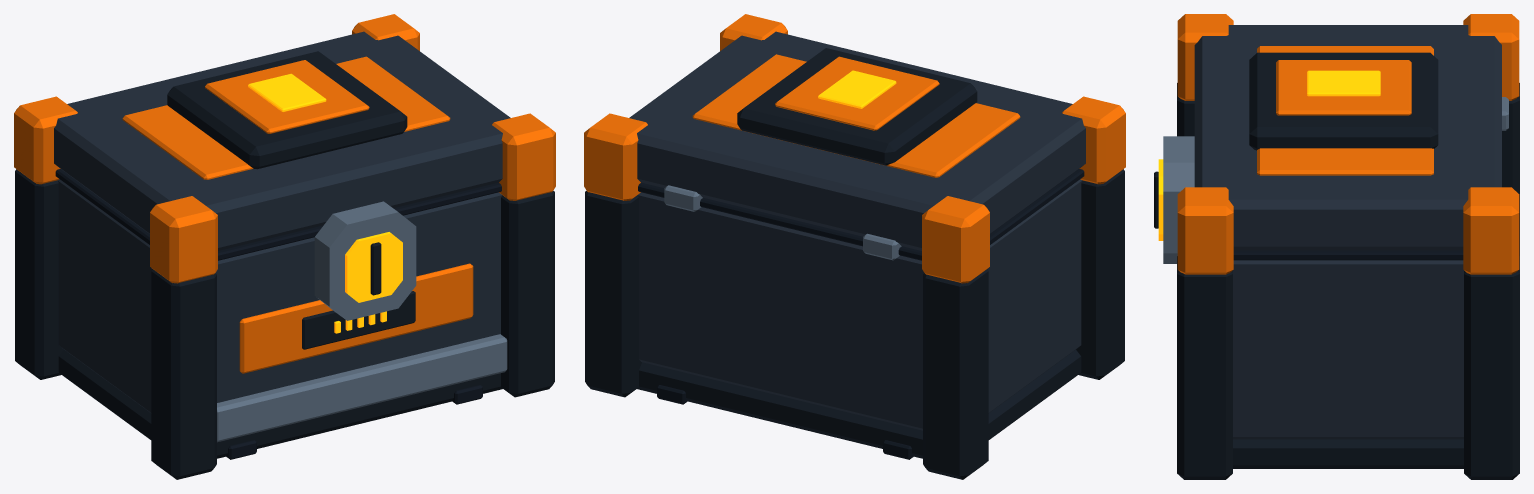
File: LegendaryChest.glb
3 renders of one model, left to right at view 1: azimuth 30°, elevation 25°; view 2: azimuth 150°, elevation 25°; view 3: azimuth 270°, elevation 25°, orthographic. The views are drawn at different scales.
Visible parts, largest first — view 1: Body, Lid; view 2: Body, Lid; view 3: Lid, Body.
Part boxes in pixels (box(x1,y1,x2,y2)): Body: box(15, 169, 554, 479); Lid: box(14, 14, 555, 283); Body: box(585, 169, 1124, 479); Lid: box(584, 14, 1125, 283); Lid: box(1177, 14, 1519, 274); Body: box(1154, 83, 1519, 479).
Bounding box in the file's own units: 1.51 × 1.08 × 1.18.
1 material, 1 textured.
